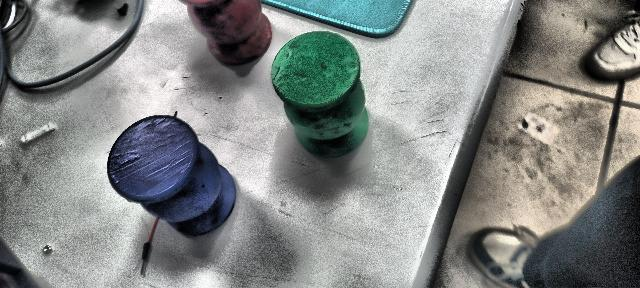blue: (108, 114, 236, 235)
green: (270, 30, 370, 158)
red: (181, 0, 271, 67)
